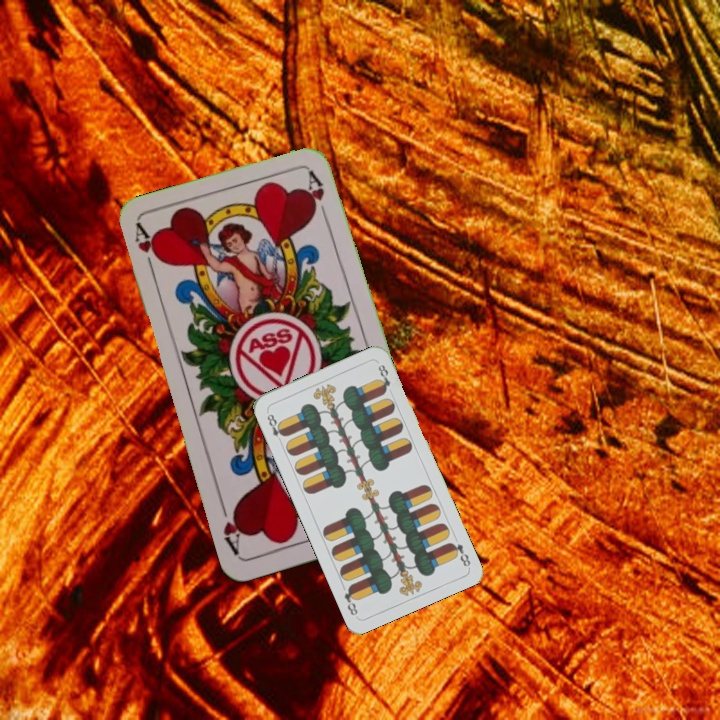E8: (263, 407, 288, 446), (446, 538, 473, 569)
HA: (131, 221, 165, 279)
